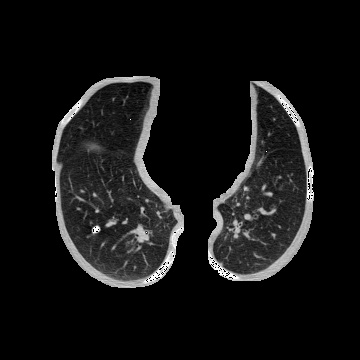PN: (92, 225, 100, 233)
